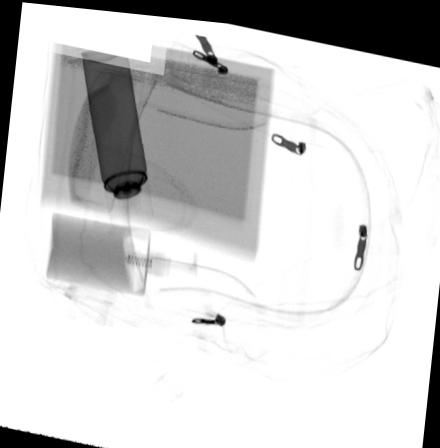Sprayer: (81, 47, 156, 231)
